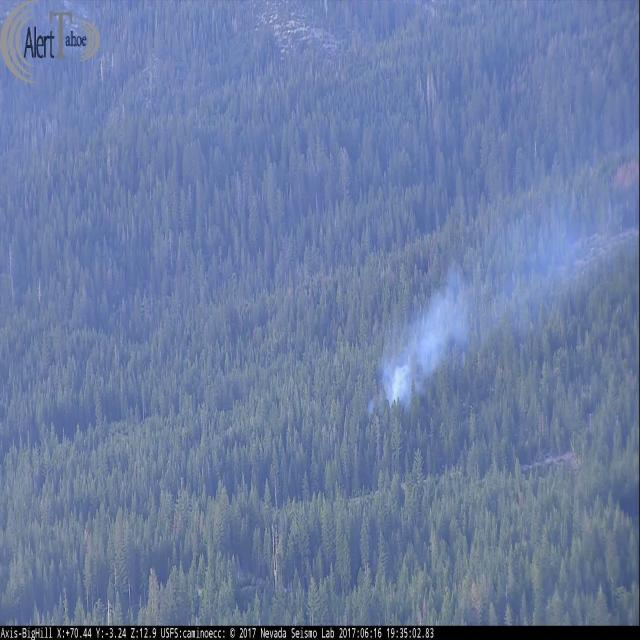smoke: (365, 134, 640, 414)
